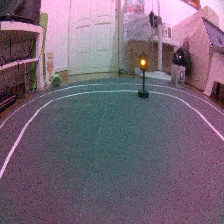amber: (135, 52, 153, 99)
